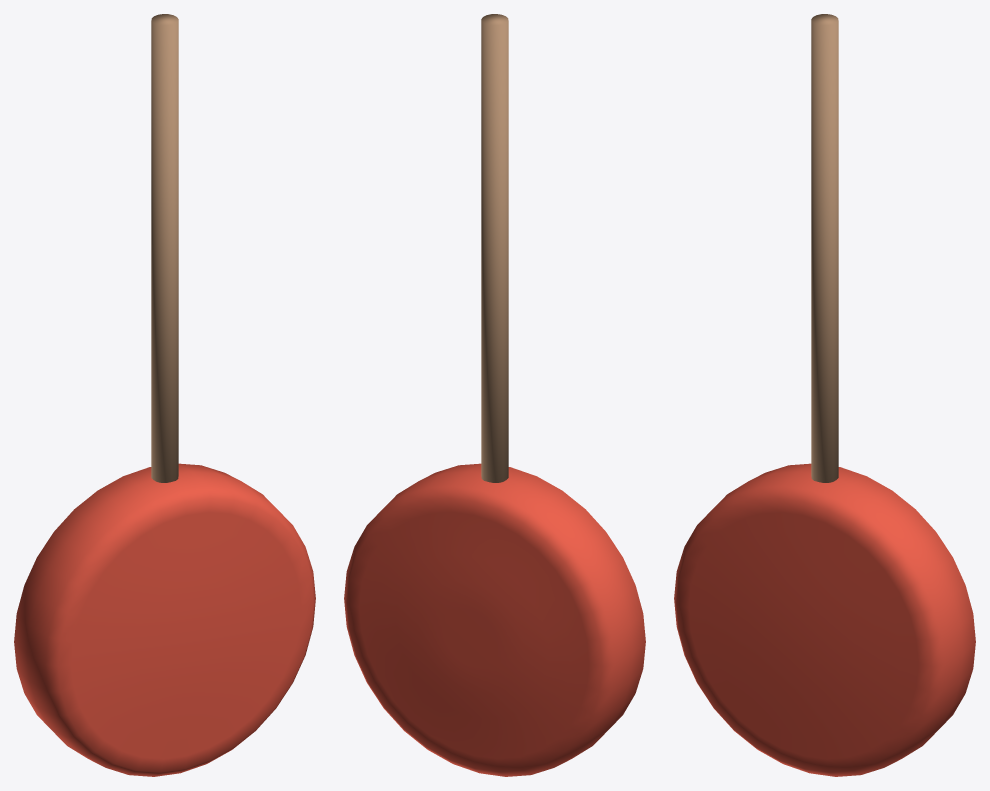
File: lizak koło.fbx
3 views of the same model, side by side, from view 1: azimuth 30°, elevation 25°; view 2: azimuth 150°, elevation 25°; view 3: azimuth 330°, elevation 25° (orthographic).
Visible parts, largest first — view 1: Sphere; view 2: Sphere; view 3: Sphere.
Boxes of the visible parts, box(x1,y1,x2,y2) form: Sphere: box(14, 14, 315, 776); Sphere: box(344, 14, 645, 776); Sphere: box(674, 14, 975, 776).
Size of the model in its own units: 200 by 516 by 60.5.
